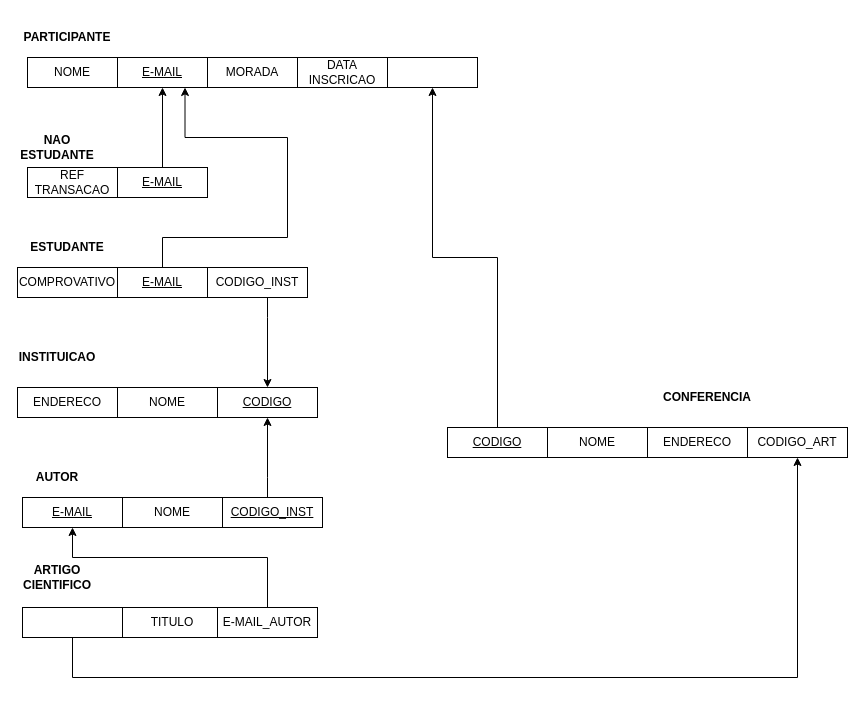
Image size: 865x703. Some labels were removed from this diagram. The centre of each missing label's shape, as x and y in pixels:
"CODIGO CONF" goes at (x=432, y=72).
"N_REGISTO" goes at (x=72, y=622).
